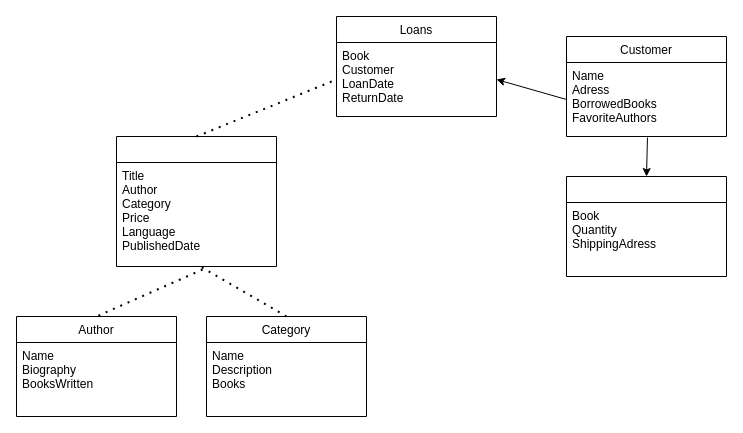
Image size: 743x433. Some labels were removed from this diagram. The shapes that lost their labels are listed below. From the top down, each one's box as (x1, y1, x2, y2) in pixels, then its label:
(116, 136, 276, 266): Book
(566, 176, 726, 276): Order
